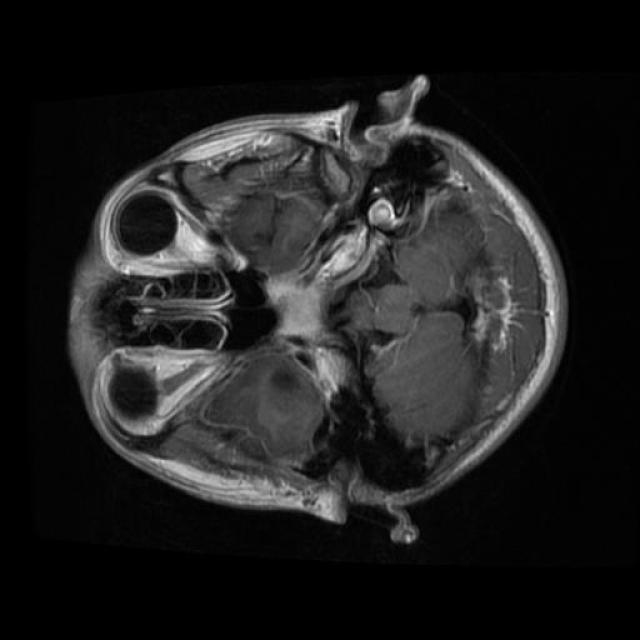Glioma: (182, 132, 404, 287)
